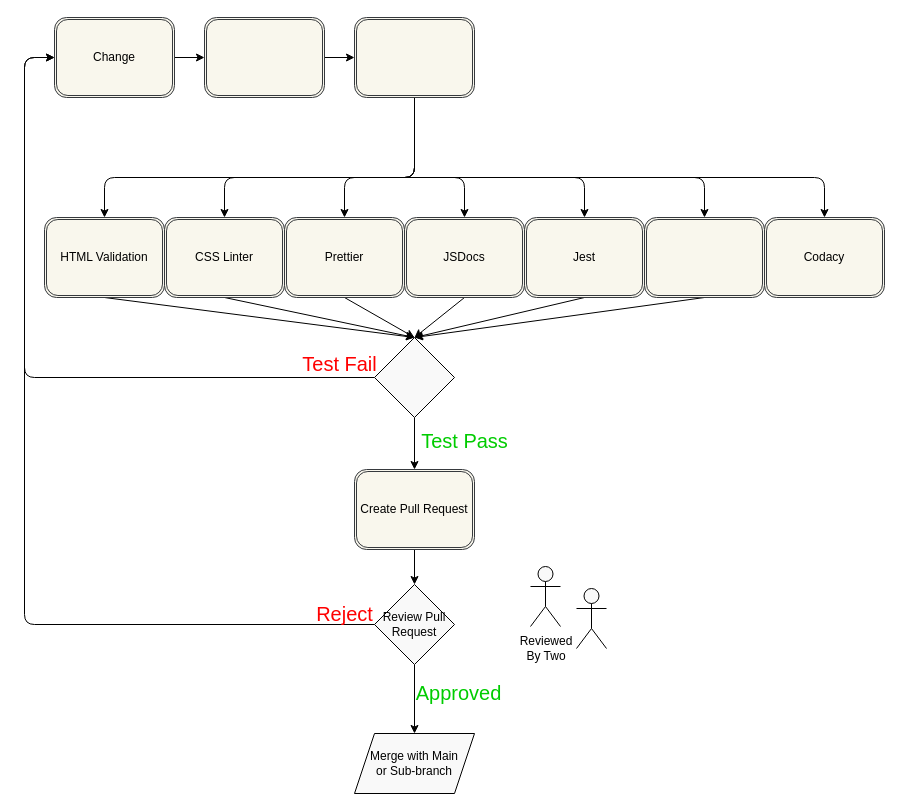
Some shapes in this 902 by 811 pixel diagram are drawn without their labels. Each missing label, with the box of its shape:
Automatic Tests (GitHub Action): (354, 16, 474, 98)
Commit Change to Branch: (204, 16, 324, 98)
ESLint: (644, 216, 764, 298)
Test Result: (374, 336, 454, 418)
